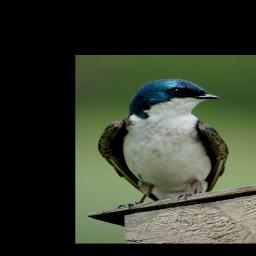Swallow: (98, 77, 230, 211)
